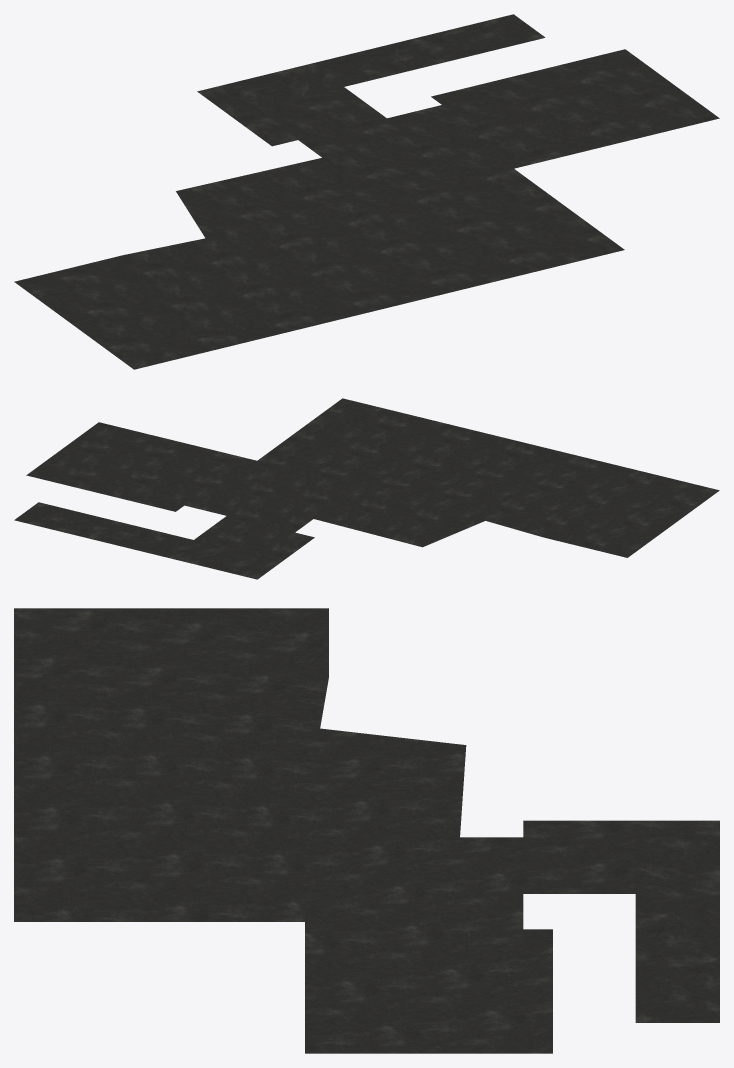
File: road.fbx
3 views of the same model, one above another, from view 1: azimuth 30°, elevation 25°; view 2: azimuth 150°, elevation 25°; view 3: azimuth 270°, elevation 25° (orthographic). The views are drawn at different scales.
Parts seen in each view (by area): view 1: polySurface16; view 2: polySurface16; view 3: polySurface16.
Part boxes in pixels (x1=…): polySurface16: x1=14, y1=14, x2=719, y2=369; polySurface16: x1=14, y1=398, x2=719, y2=579; polySurface16: x1=14, y1=608, x2=719, y2=1053.
Bounding box in the file's own units: 235 × 6.39e-06 × 157.
